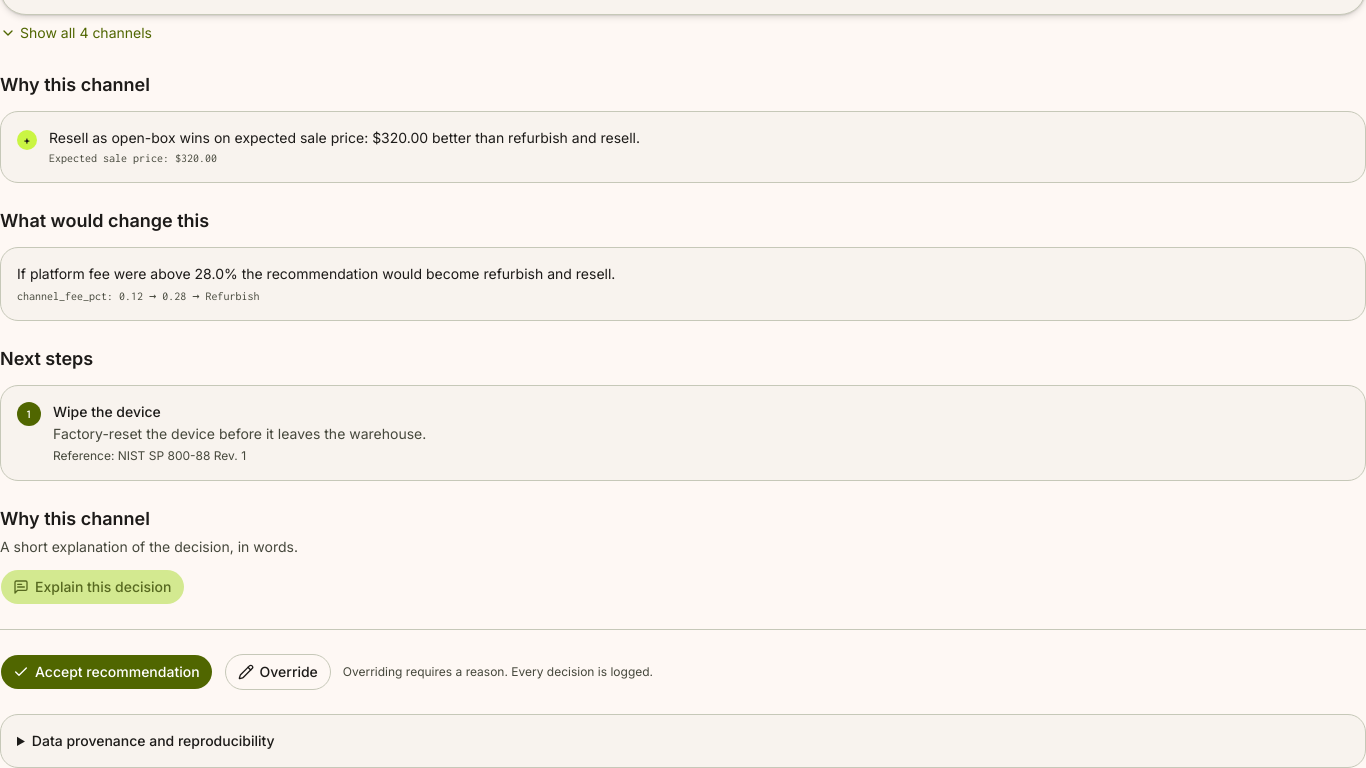
Test: DecisionCard › requires a reason before the override can be submitted
The width and height of the screenshot is (1366, 768).
(page scrolled)
Click the button with test id "override-button": [278, 672] box x1=225 y1=654 x2=331 y2=690
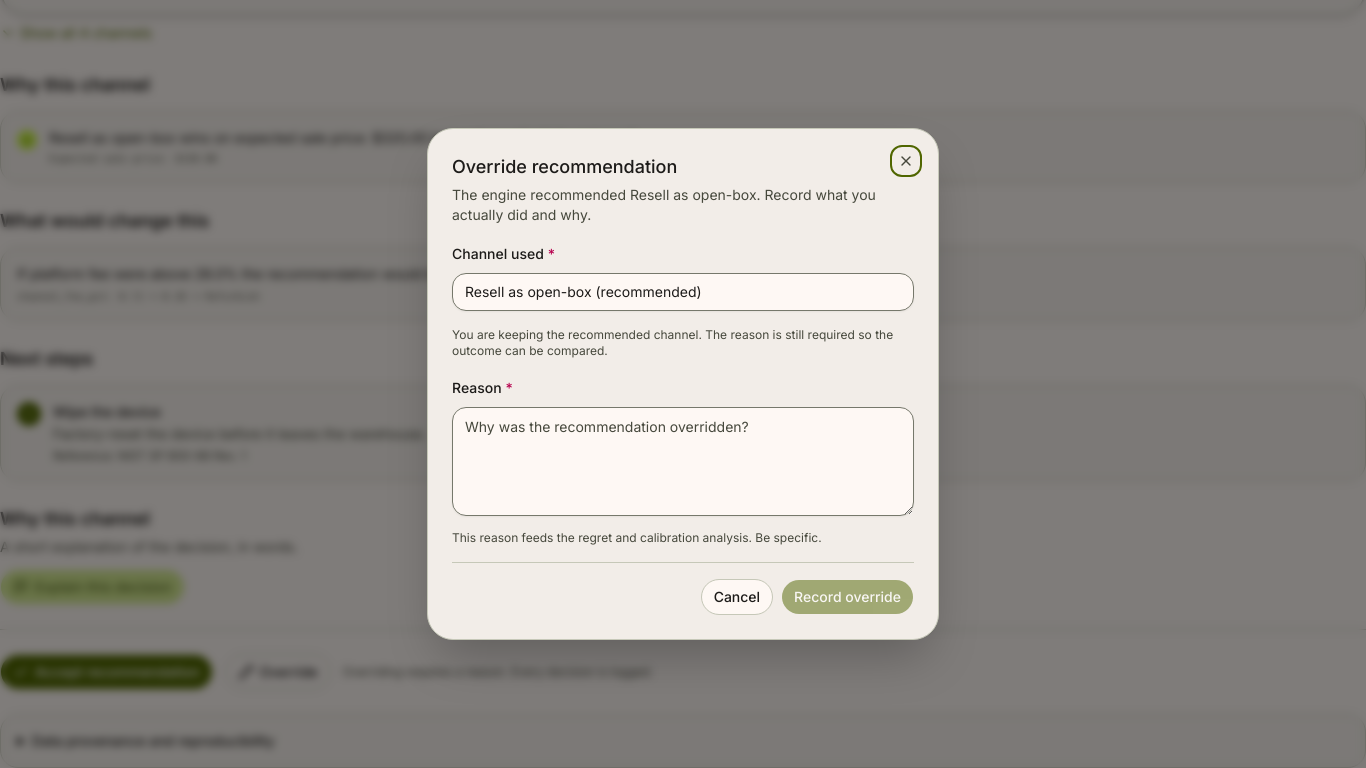
Expected: the button "Record override" is disabled, x1=781 y1=579 x2=914 y2=615
In the text box labelled "Reason*": [683, 462] box x1=452 y1=407 x2=914 y2=516, type "Customer insisted"
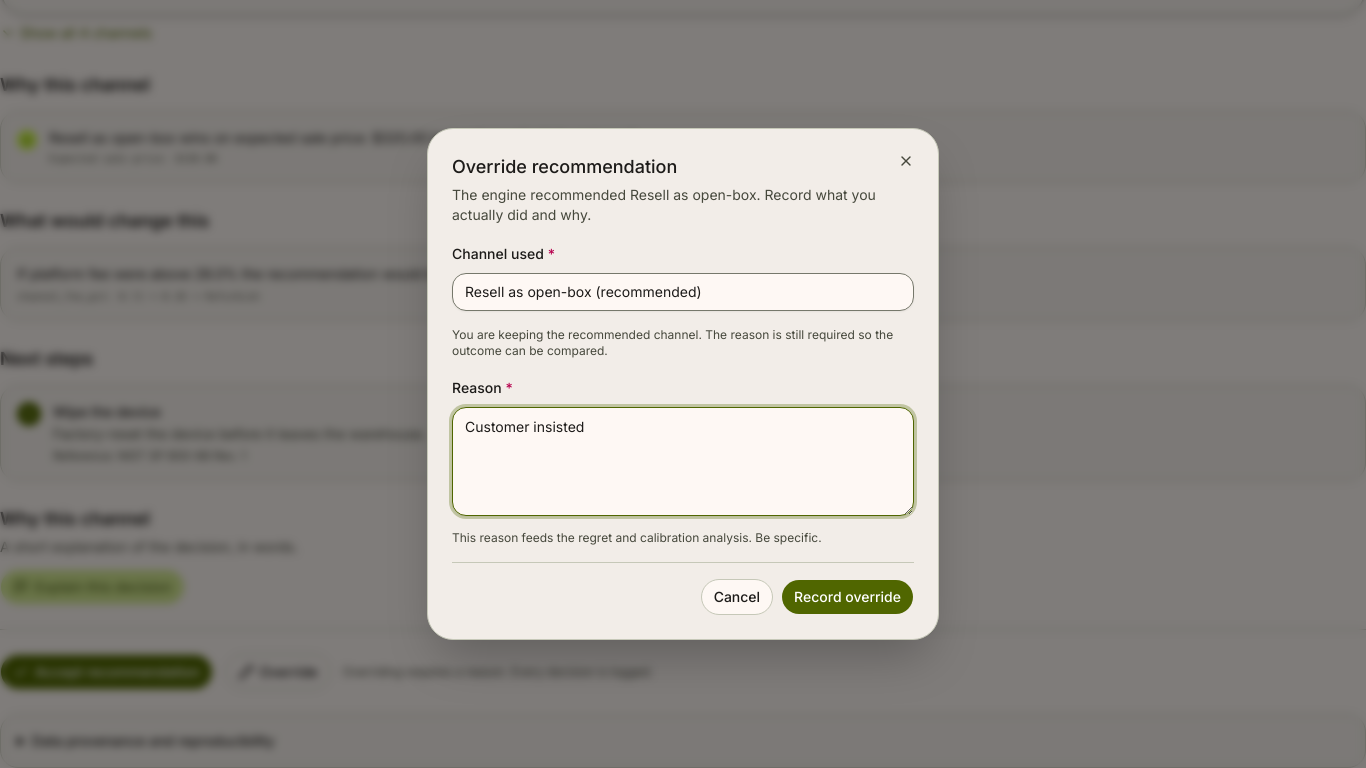
Expected: the button "Record override" is enabled, x1=781 y1=579 x2=914 y2=615
